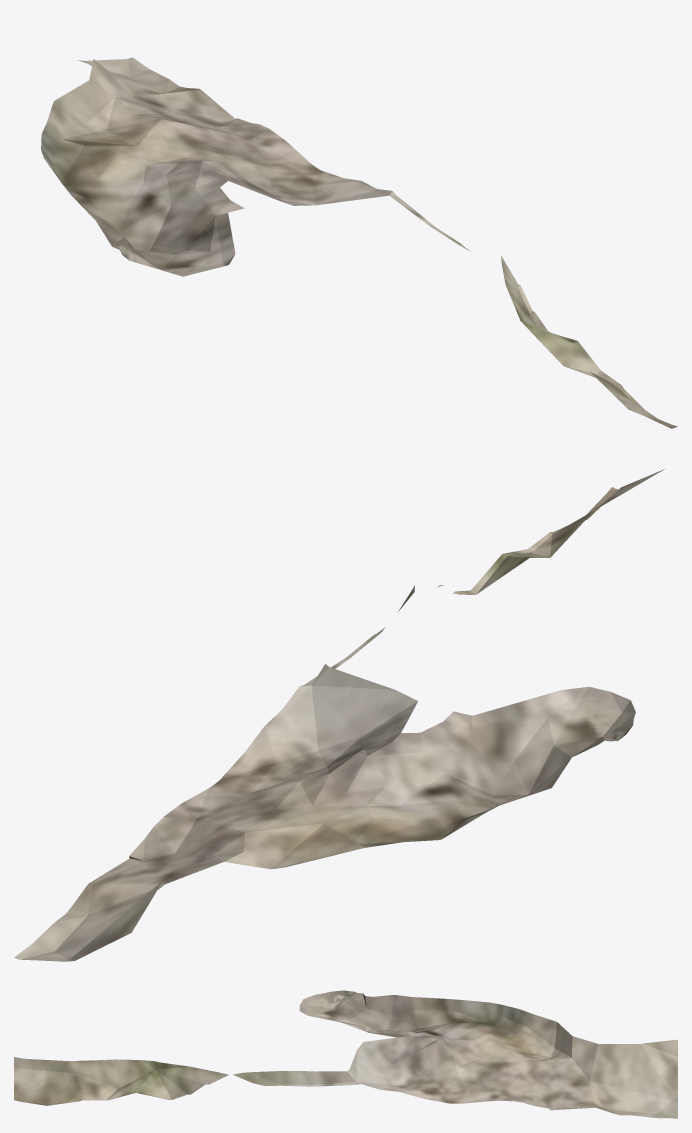
3 views of the same model, one above another, from view 1: azimuth 30°, elevation 25°; view 2: azimuth 150°, elevation 25°; view 3: azimuth 270°, elevation 25° (orthographic). The views are drawn at different scales.
Size of the model in its own units: 1.77 by 0.4436 by 5.9.
Materials: 1 (1 with a texture image).
